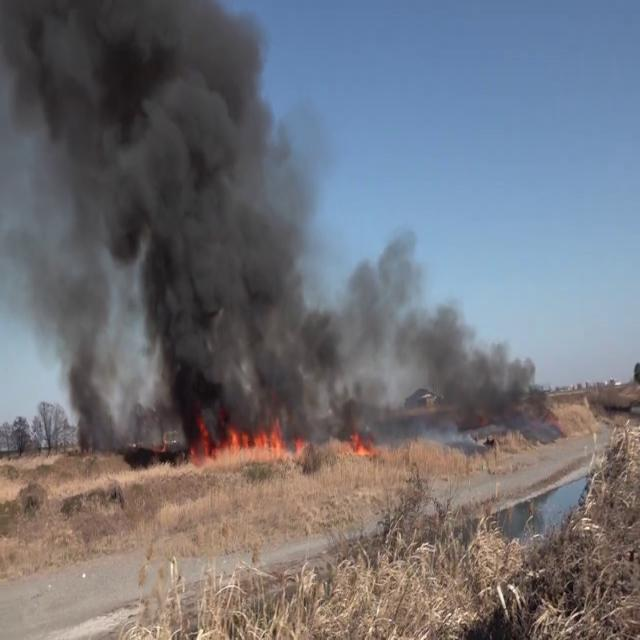Fire: (206, 411, 307, 467)
Smoke: (4, 0, 329, 436), (318, 231, 560, 436)
